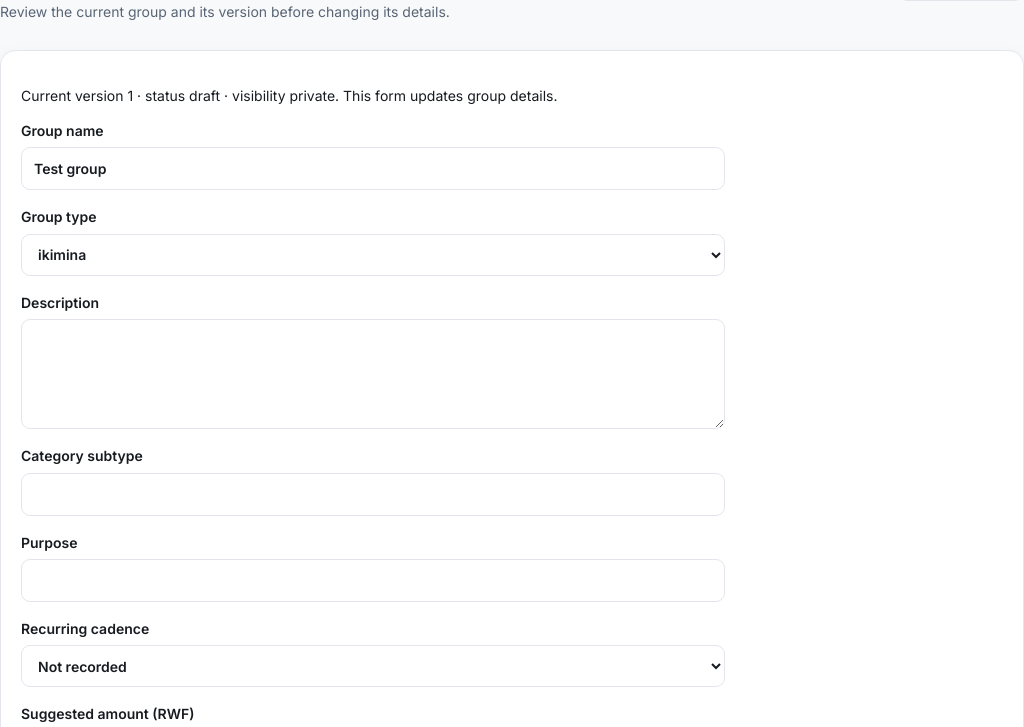
Test case: legacy group pages › edits metadata using the current version without changing status or visibility
The width and height of the screenshot is (1024, 727).
Step 1. Replace the text in the field labelled "Group name" with "Updated group" → point(373, 169), box x1=21 y1=147 x2=725 y2=190
(page scrolled)
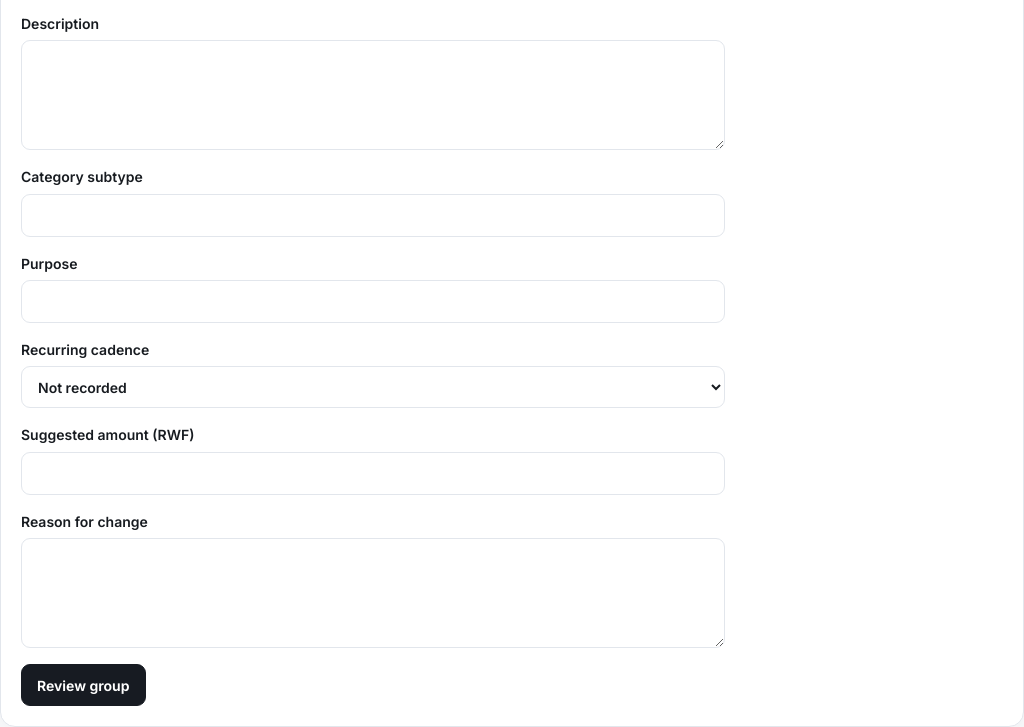
Step 2. Type "Review group details" into the text box labelled "Reason for change" → point(373, 593), box x1=21 y1=538 x2=725 y2=648
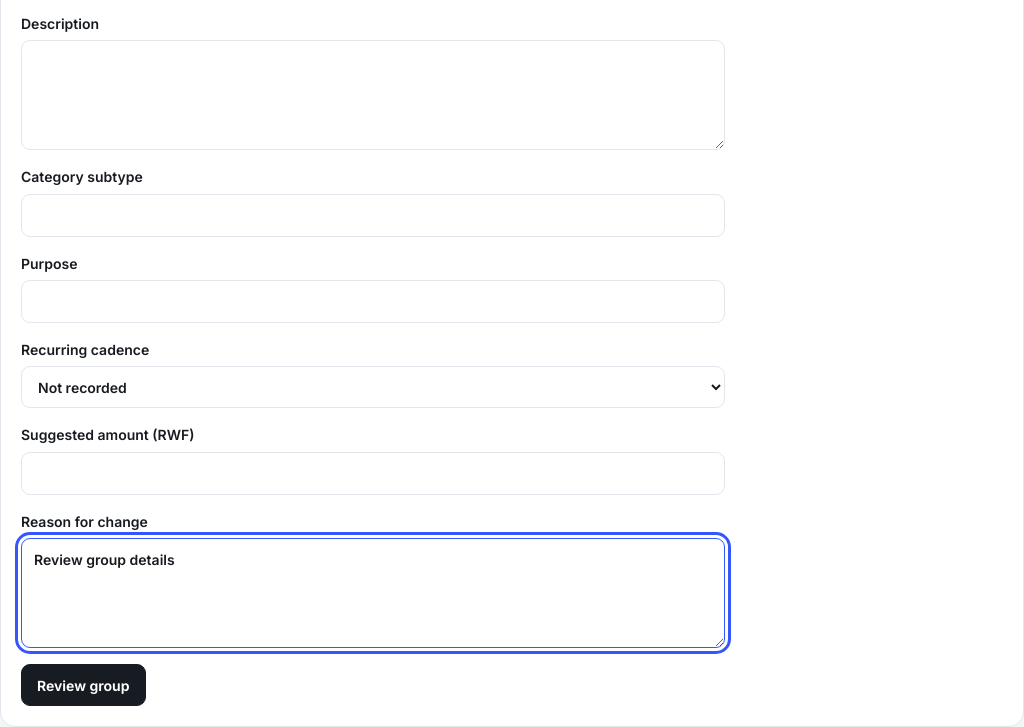
Step 3. Click the button "Review group" → point(83, 685), box x1=21 y1=664 x2=146 y2=706
(page scrolled)
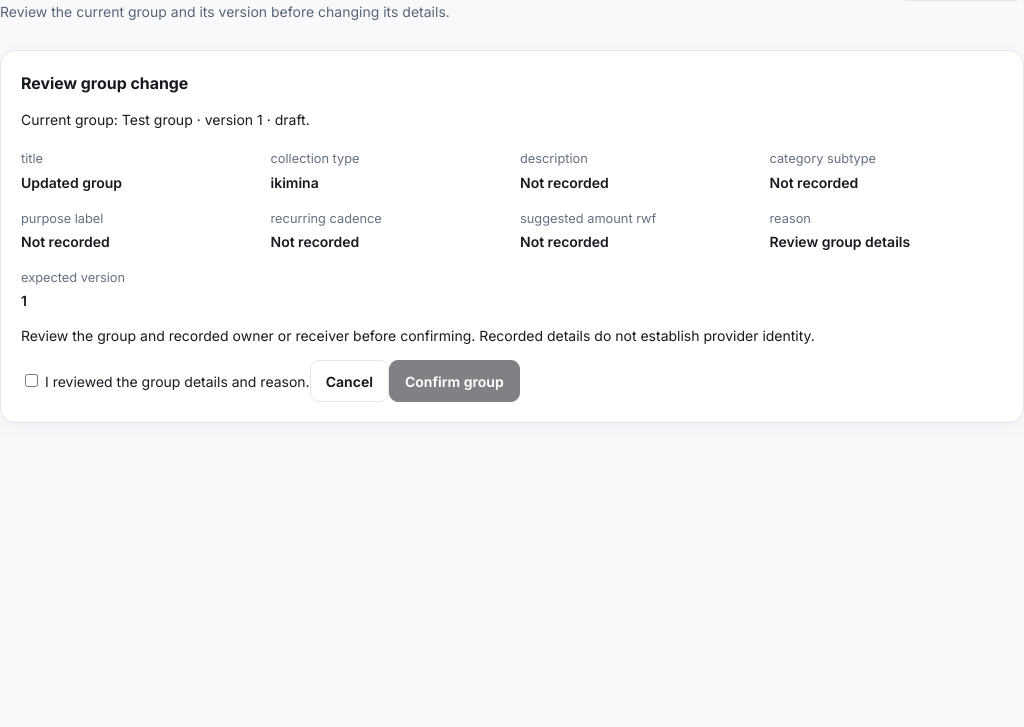
Expected: the text "Current group: Test group · version 1 · draft." is shown, x1=21 y1=111 x2=310 y2=128
Step 4. Click the checkbox labelled "I reviewed the group details and reason." → point(32, 380), box x1=25 y1=374 x2=38 y2=387
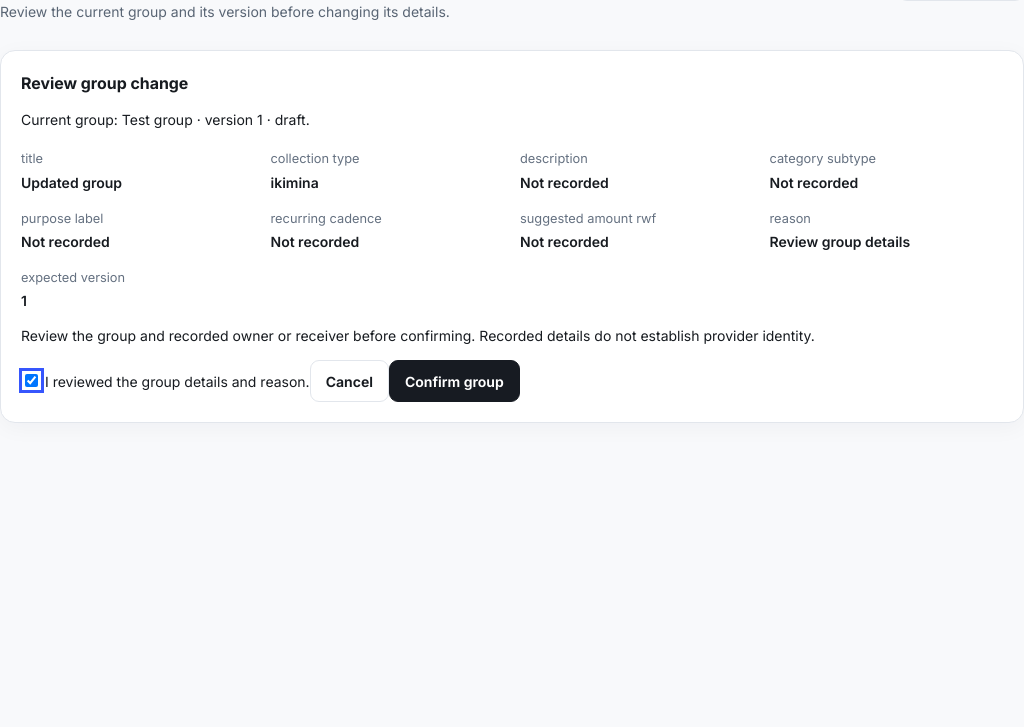
Step 5. Click the button "Confirm group" → point(454, 381), box x1=389 y1=360 x2=520 y2=402
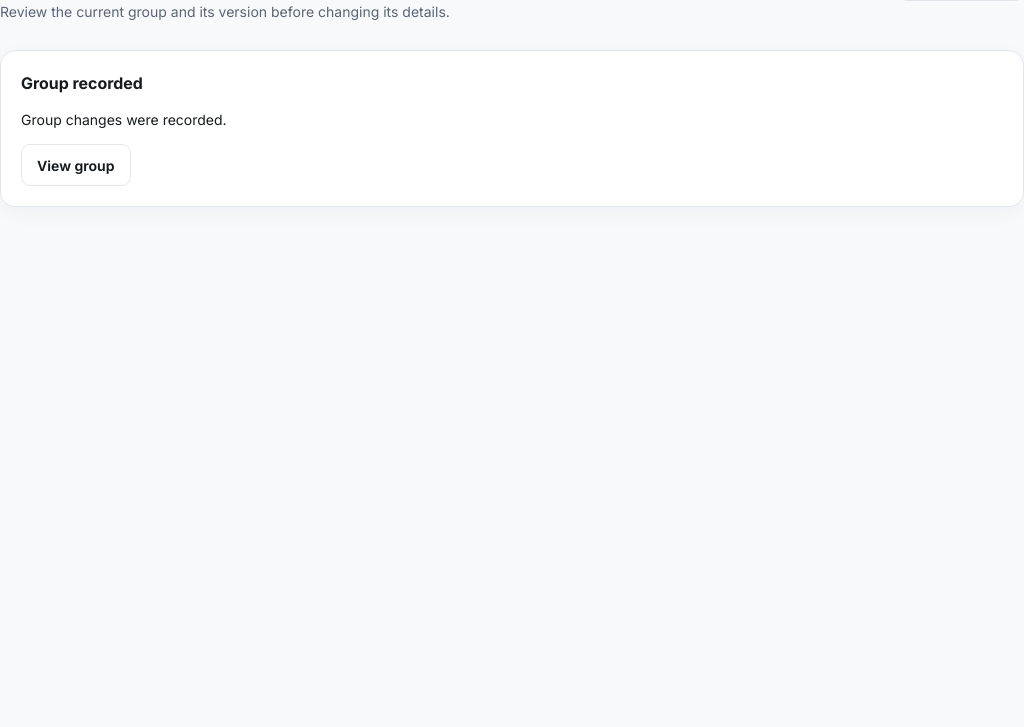
Expected: the text "Group changes were recorded." is shown, x1=21 y1=111 x2=227 y2=128
